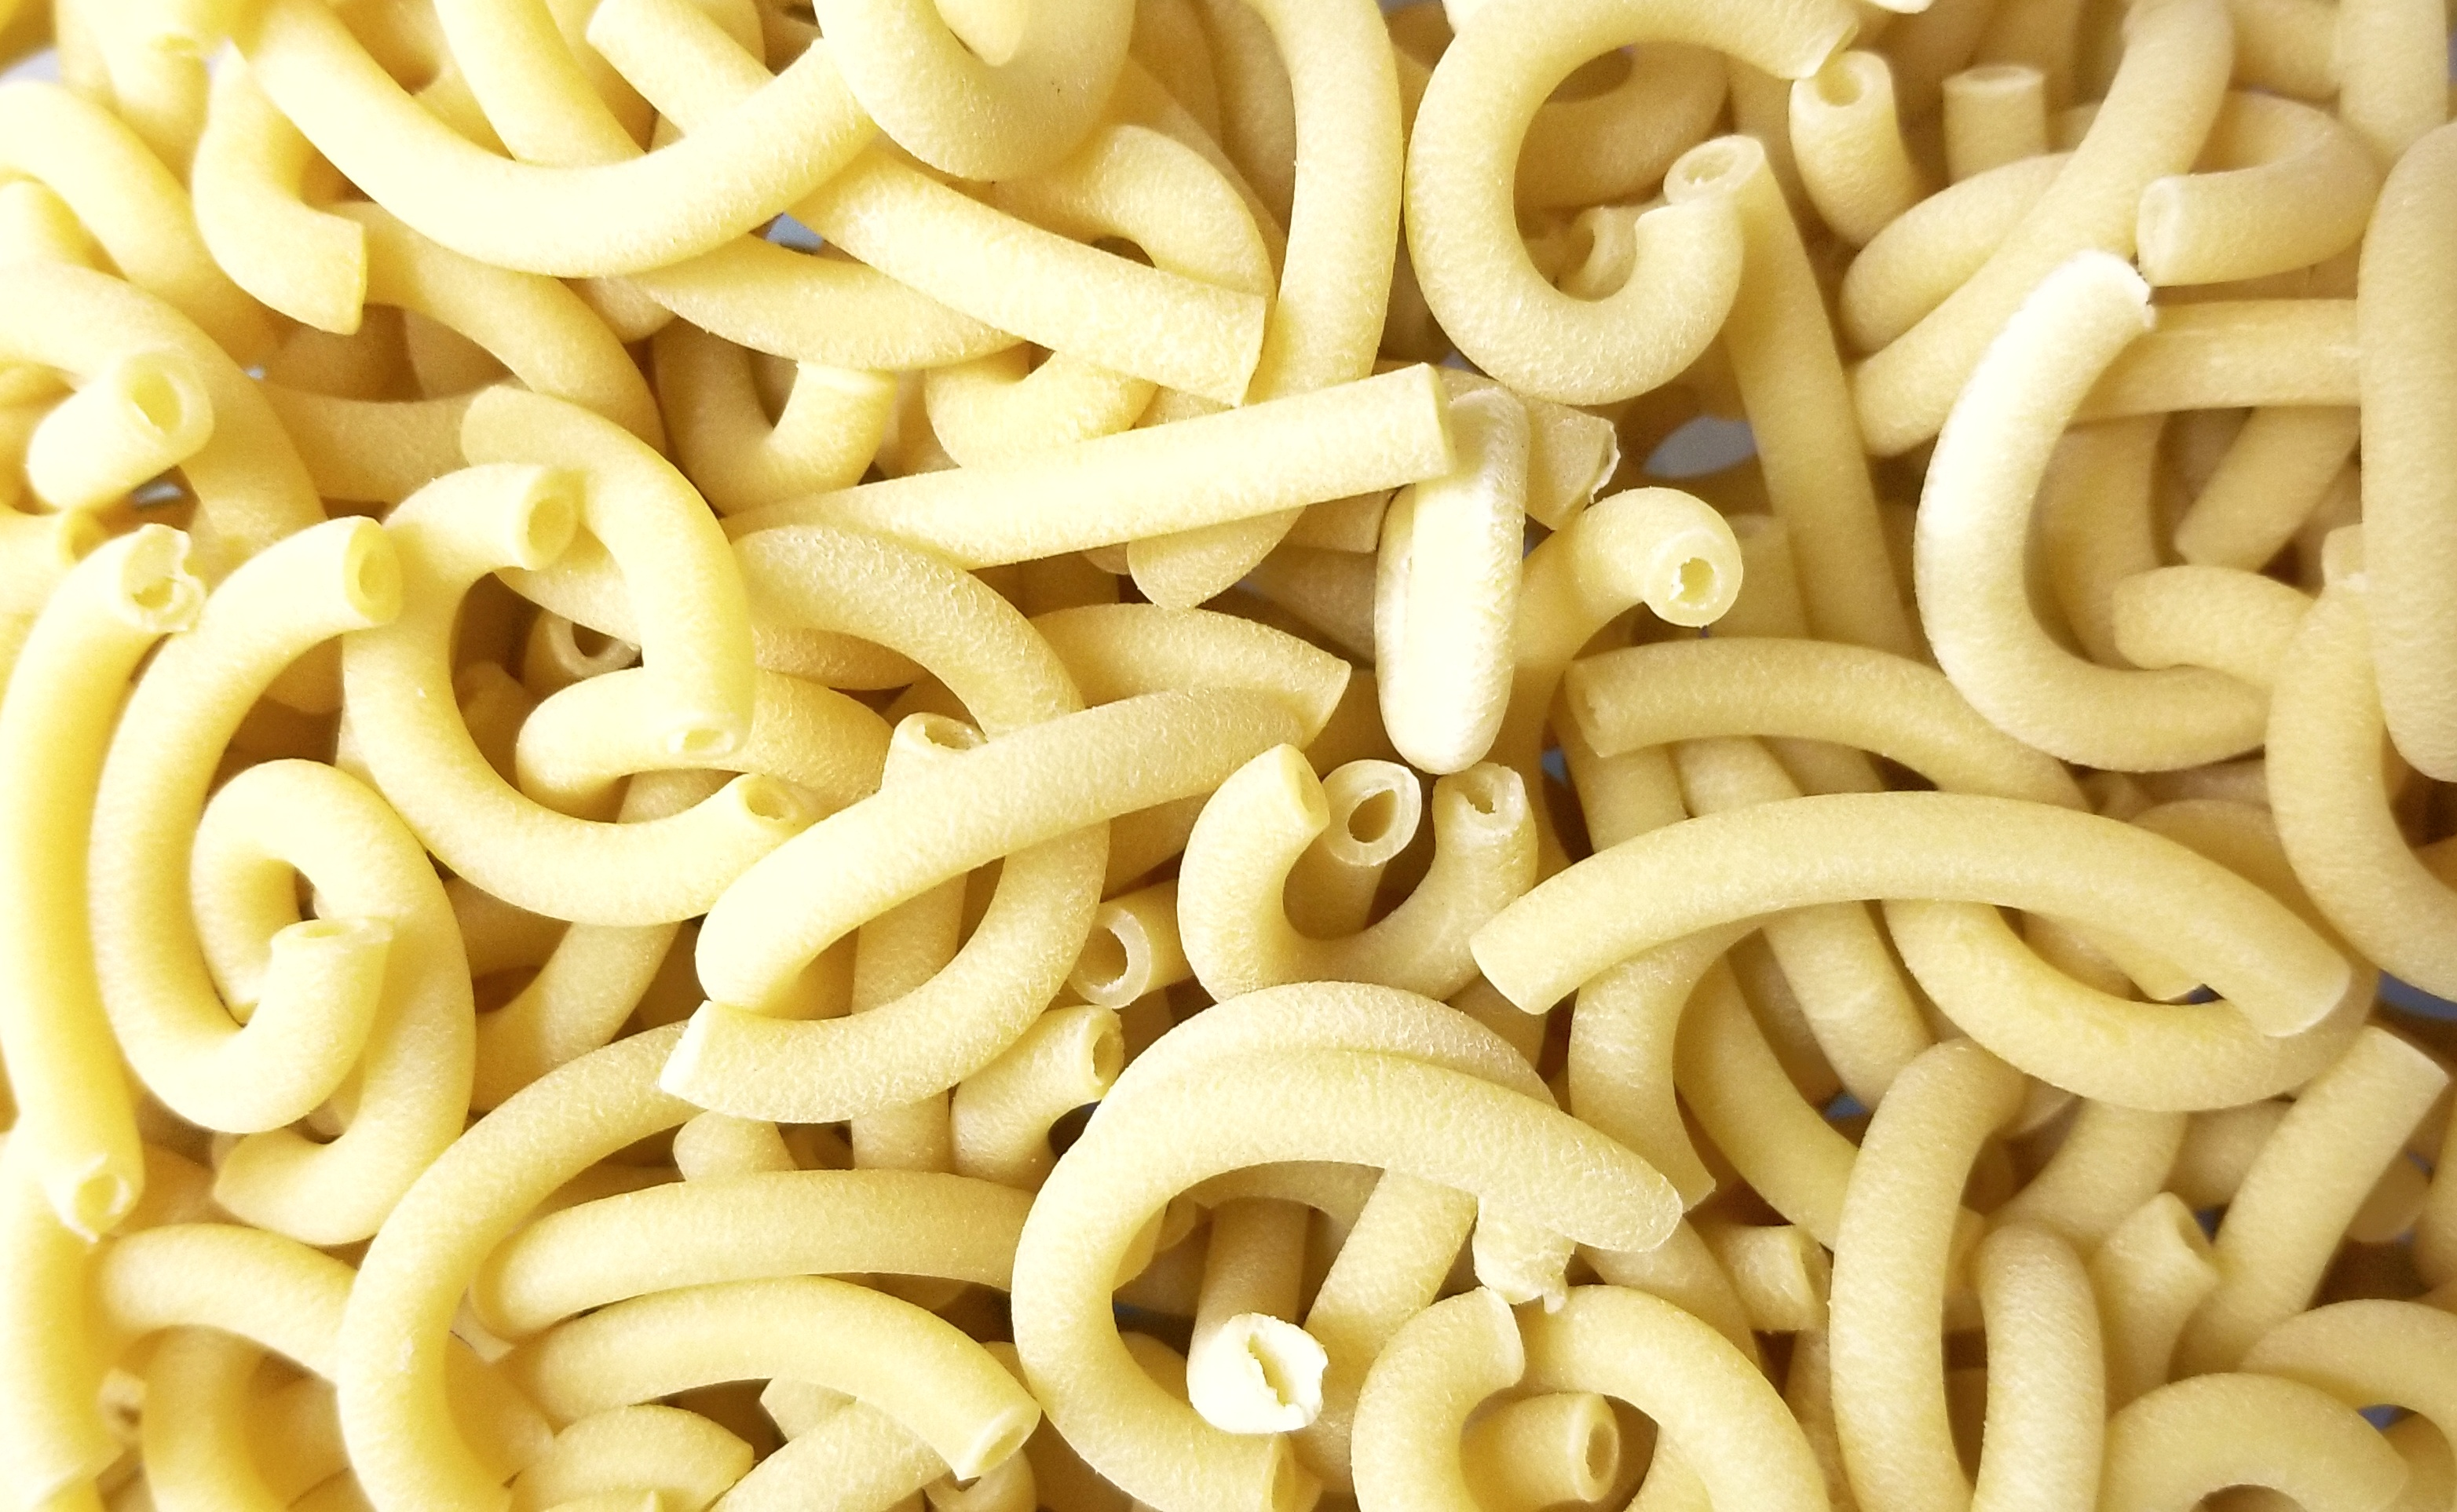plain spaghetti: (70, 23, 2387, 1468)
